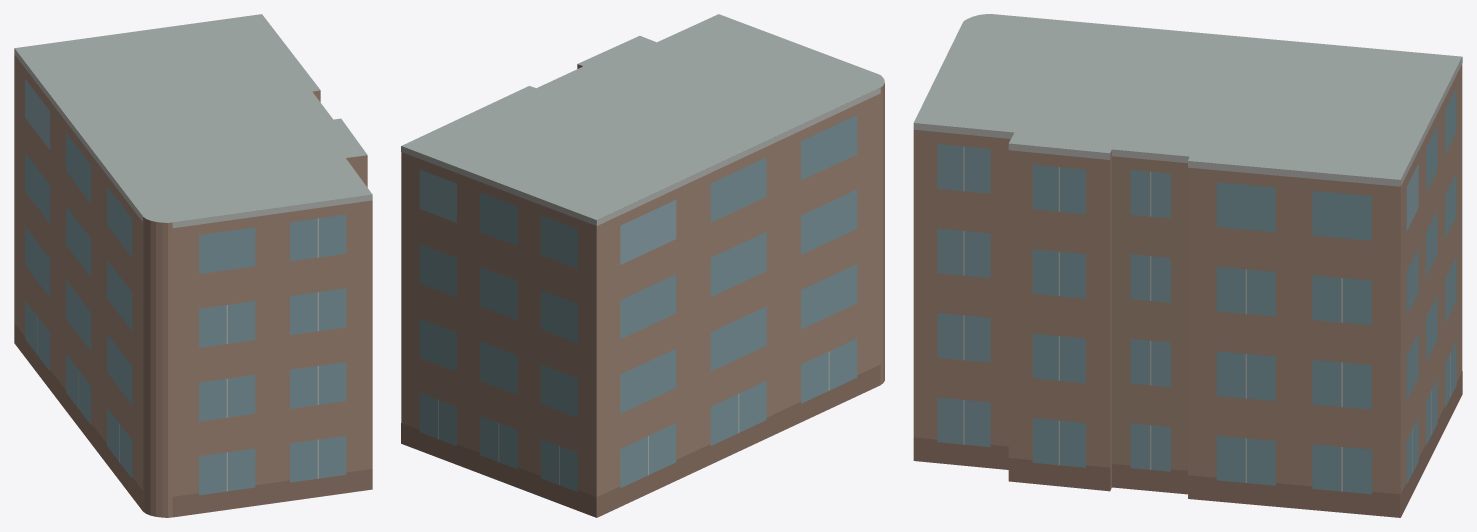
The model's file is survey-upis-32801401.glb.
3 renders of one model, left to right at view 1: azimuth 30°, elevation 25°; view 2: azimuth 150°, elevation 25°; view 3: azimuth 270°, elevation 25°, orthographic. The views are drawn at different scales.
Parts seen in each view (by area): view 1: survey-upis-32801401.tmp; view 2: survey-upis-32801401.tmp; view 3: survey-upis-32801401.tmp.
Part boxes in pixels (left/top/right/bottom): survey-upis-32801401.tmp: left=14, top=14, right=372, bottom=517; survey-upis-32801401.tmp: left=401, top=14, right=884, bottom=517; survey-upis-32801401.tmp: left=913, top=14, right=1462, bottom=517.
Size of the model in its own units: 12.86 by 12.2 by 17.97.
